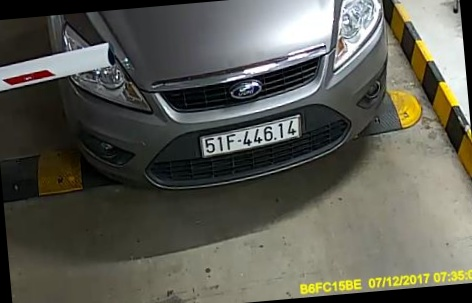plate: (190, 115, 312, 163)
